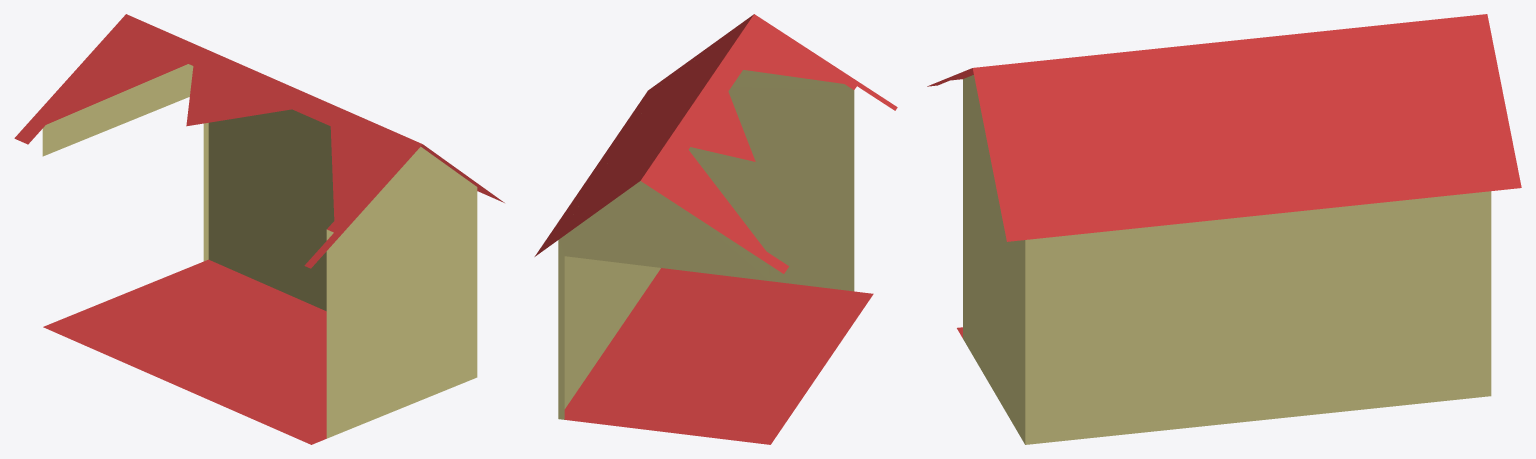
The picture shows the model from 3 angles, left to right: view 1: azimuth 30°, elevation 25°; view 2: azimuth 150°, elevation 25°; view 3: azimuth 270°, elevation 25°; orthographic projection. The views are drawn at different scales.
Bounding box in the file's own units: 18.1 × 23.78 × 14.6.
